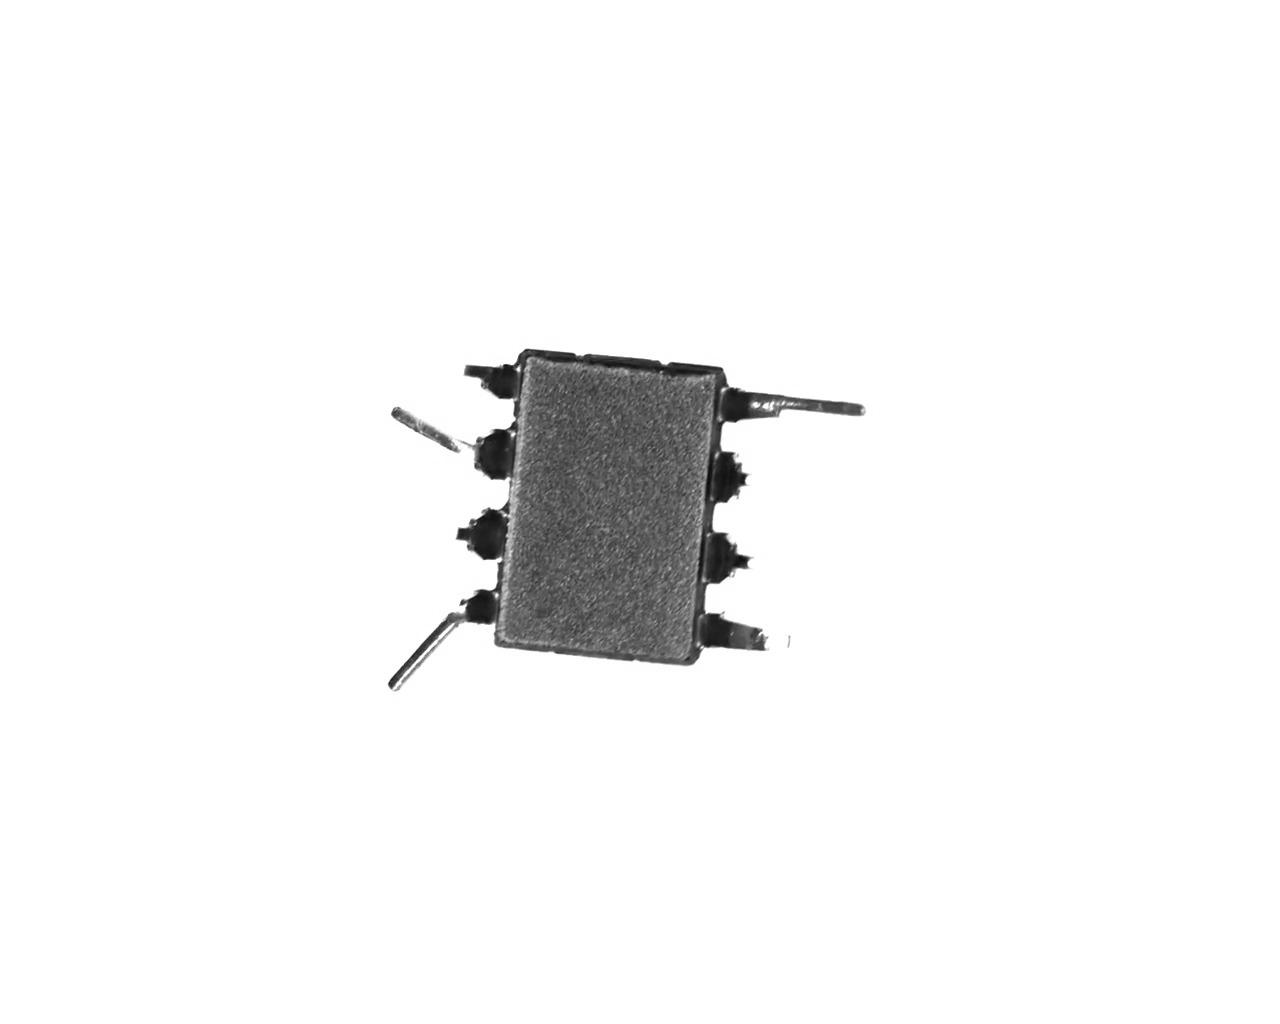Leg: (387, 587, 505, 716), (377, 401, 521, 491), (718, 378, 867, 433), (698, 606, 806, 676)
brokenLeg: (439, 498, 512, 565), (691, 525, 759, 592), (442, 360, 525, 405), (698, 447, 753, 507)
